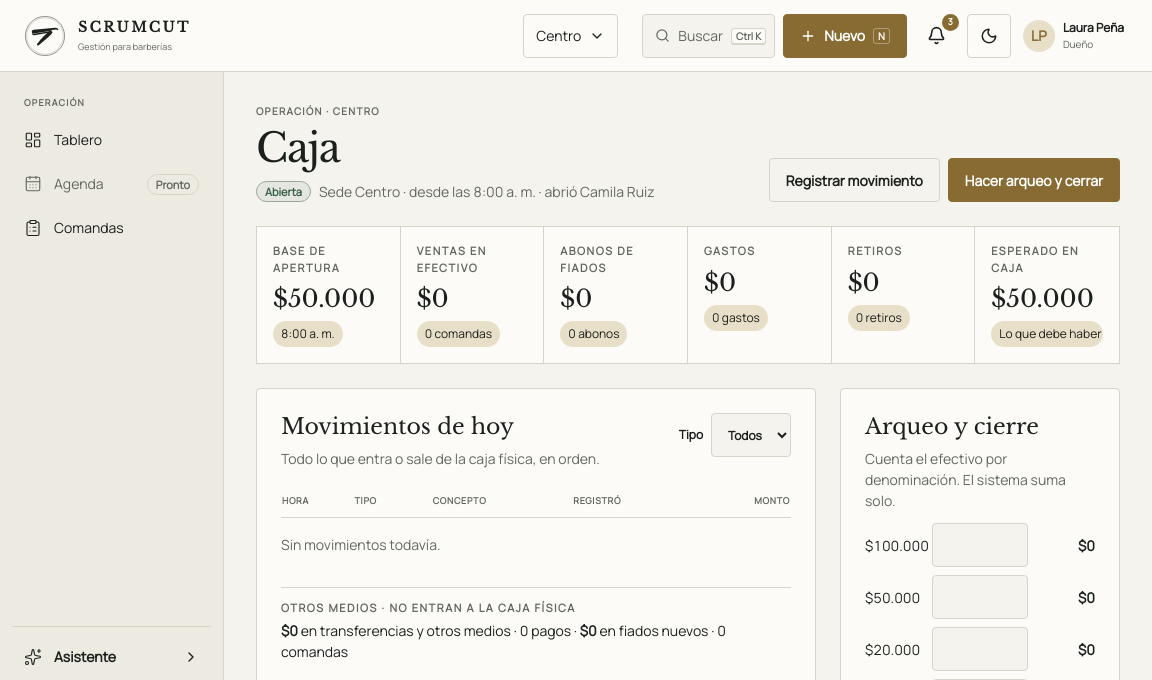
Test: caja › cerrar pide confirmación y envía el conteo por denominación, no el total
In the field labelled "$20.000": (980, 649) [932, 627, 1028, 671], type "2"
(page scrolled)
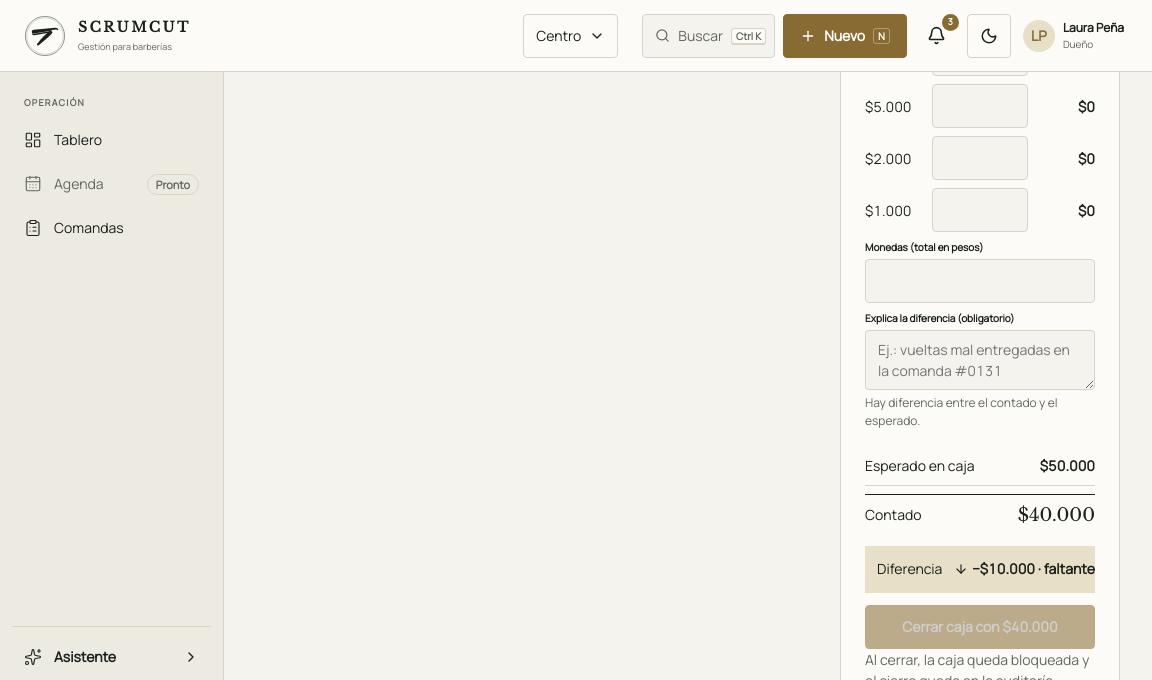
In the text box labelled "Explica la diferencia (obligatorio)": (980, 360) [865, 330, 1095, 390], type "Vueltas"
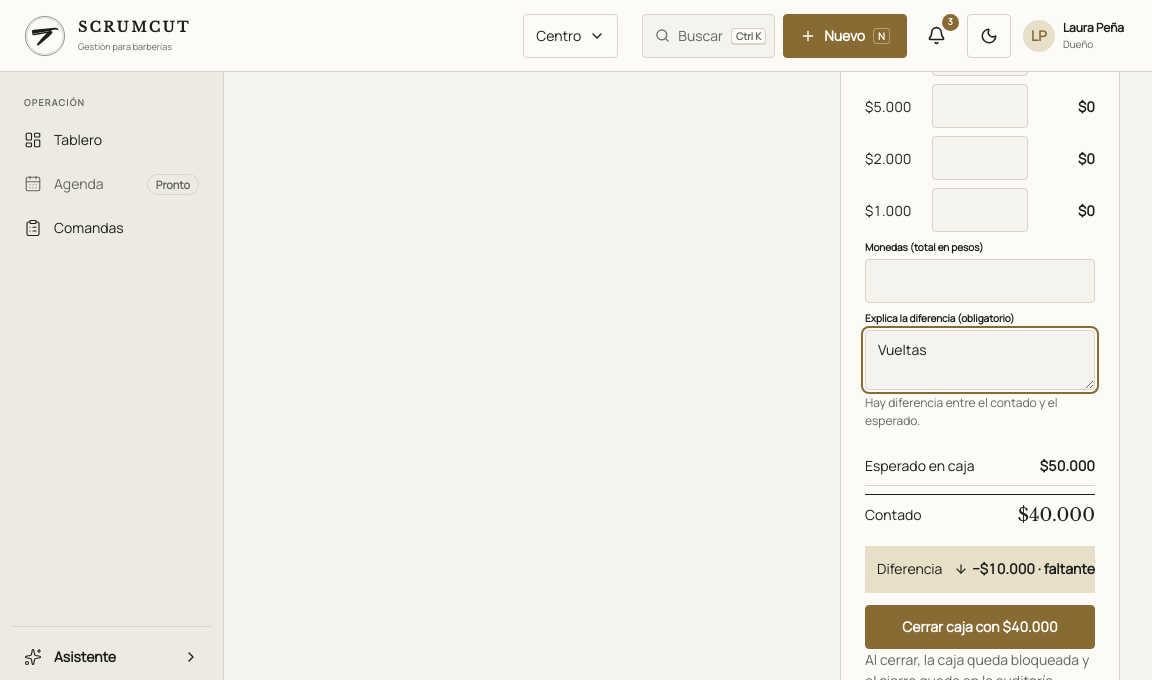
Click the button "Cerrar caja con $40.000": (980, 626) [865, 604, 1095, 648]
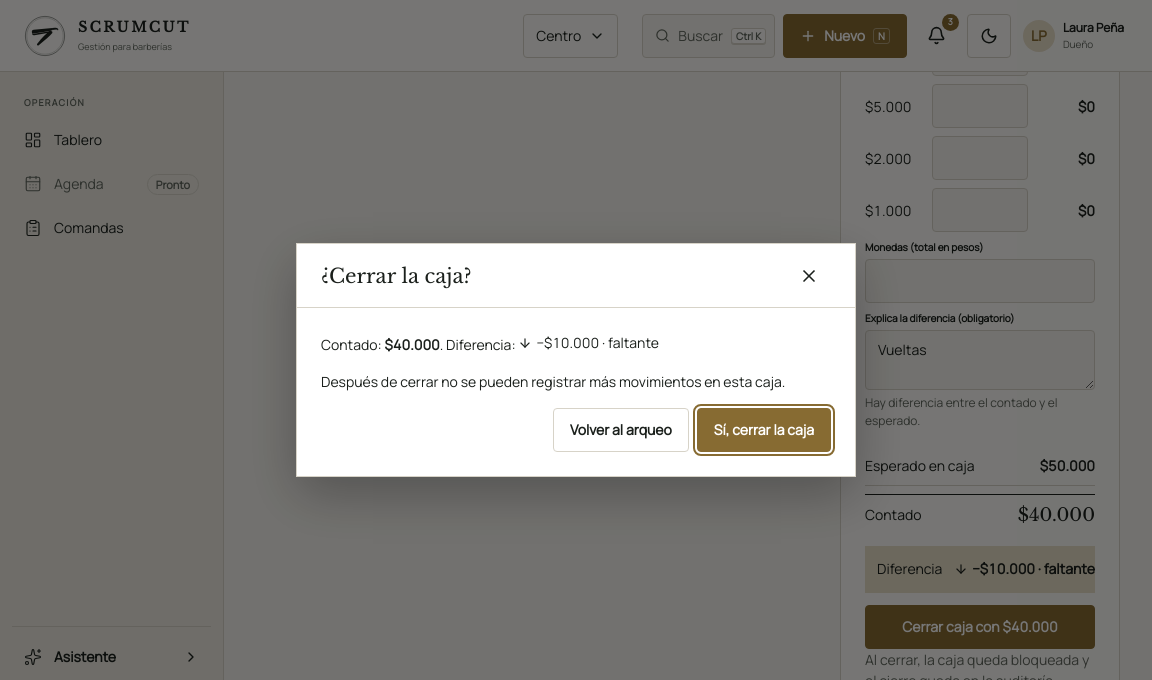
Click the button "Sí, cerrar la caja": (764, 430) [697, 408, 831, 452]
(page scrolled)
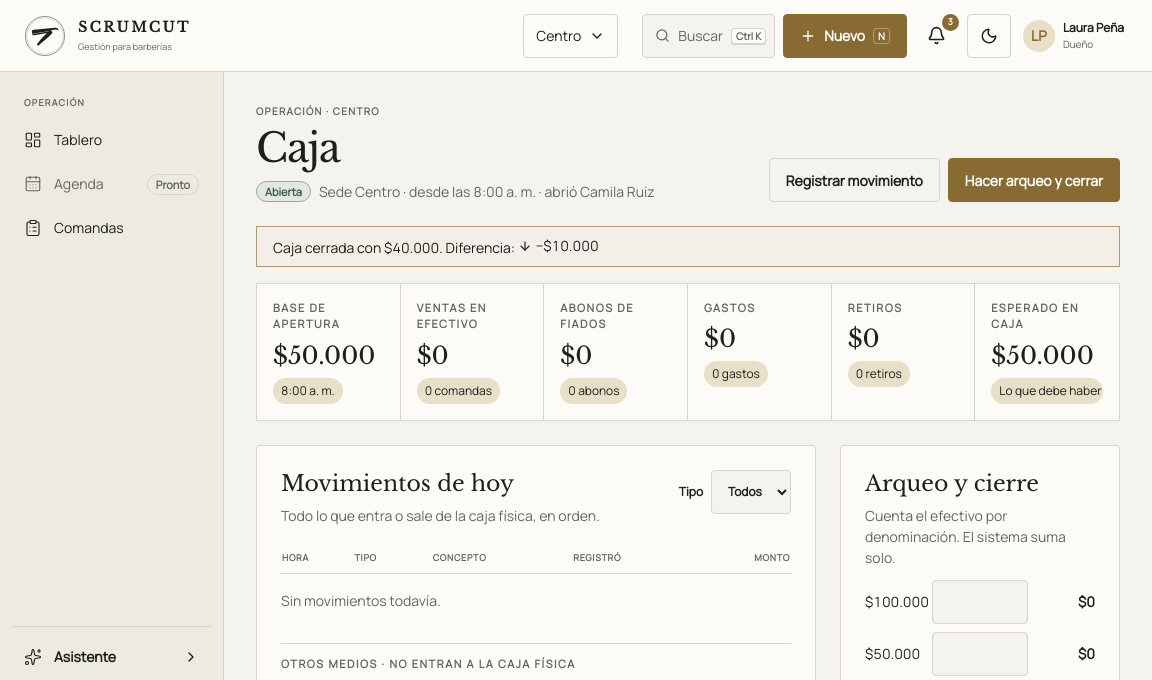
Now the text "Caja cerrada con $40.000. Diferencia: −$10.000" is shown, box [273, 235, 599, 258]
